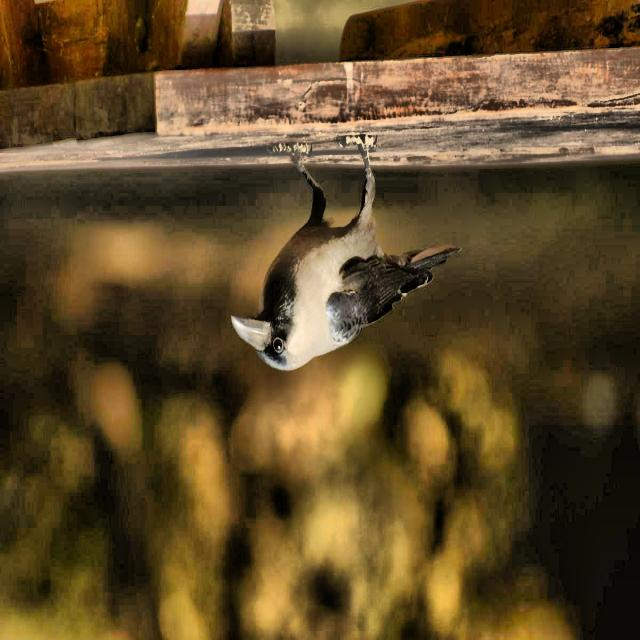crow: (226, 134, 459, 402)
